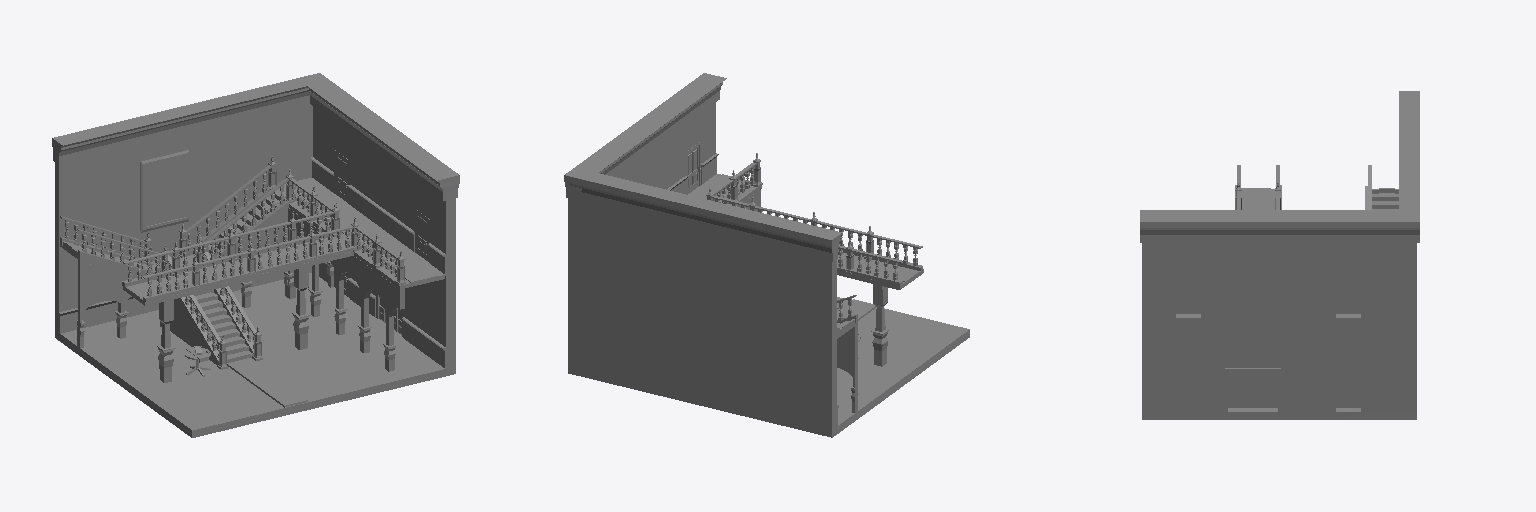
The model's file is Mansion_evil.obj.
The picture shows the model from 3 angles: view 1: azimuth 30°, elevation 25°; view 2: azimuth 150°, elevation 25°; view 3: azimuth 270°, elevation 25°; orthographic projection.
Parts seen in each view (by area): view 1: Estrutura, Cube_067, Cube_072, Cube_068, Cube_004, Cube_066, Cube_046, Degraus_001, Cube_001, Cube_065, Cube_050, Cube_031 (+8 smaller); view 2: Estrutura, Cube_067, Cube_068, Cube_066, Cube_072, Cube_001, Cube_074, Degraus_001, Cube_027; view 3: Estrutura, Cube_068, Cube_067, Cube_072, Porta1, Porta1_001, Cube_036, Cube_039, Cube_043.
Boxes of the visible parts, <box> form: Estrutura: <box>55,104,455,437</box>; Cube_067: <box>52,75,309,164</box>; Cube_072: <box>66,183,438,407</box>; Cube_068: <box>301,73,459,200</box>; Cube_004: <box>287,208,404,371</box>; Cube_066: <box>128,183,397,296</box>; Cube_046: <box>140,150,188,232</box>; Degraus_001: <box>123,178,444,305</box>; Cube_001: <box>77,260,161,348</box>; Cube_065: <box>59,266,311,333</box>; Cube_050: <box>348,185,414,251</box>; Cube_031: <box>143,246,355,301</box>; Estrutura: <box>568,103,969,437</box>; Cube_067: <box>568,173,841,261</box>; Cube_068: <box>564,73,726,200</box>; Cube_066: <box>713,166,917,280</box>; Cube_072: <box>694,174,918,327</box>; Cube_001: <box>837,324,858,412</box>; Cube_074: <box>871,284,889,366</box>; Degraus_001: <box>689,174,923,289</box>; Cube_027: <box>711,195,922,248</box>; Estrutura: <box>1142,243,1416,419</box>; Cube_068: <box>1140,210,1419,242</box>; Cube_067: <box>1399,91,1419,219</box>; Cube_072: <box>1244,188,1394,209</box>; Porta1: <box>1253,371,1277,407</box>; Porta1_001: <box>1228,371,1252,407</box>; Cube_036: <box>1336,371,1360,407</box>; Cube_039: <box>1336,277,1360,313</box>; Cube_043: <box>1176,277,1200,313</box>.
Size of the model in its own units: 54.21 by 38.5 by 49.08.